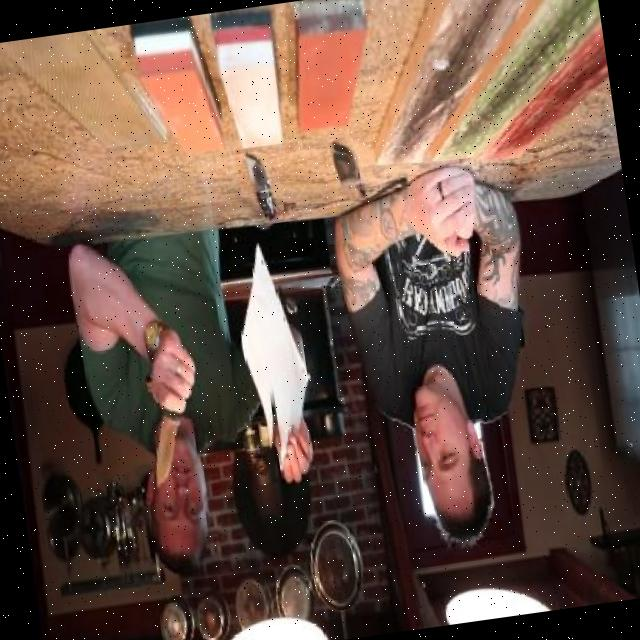Knife: (140, 374, 202, 495), (244, 150, 278, 224), (331, 140, 366, 202)
